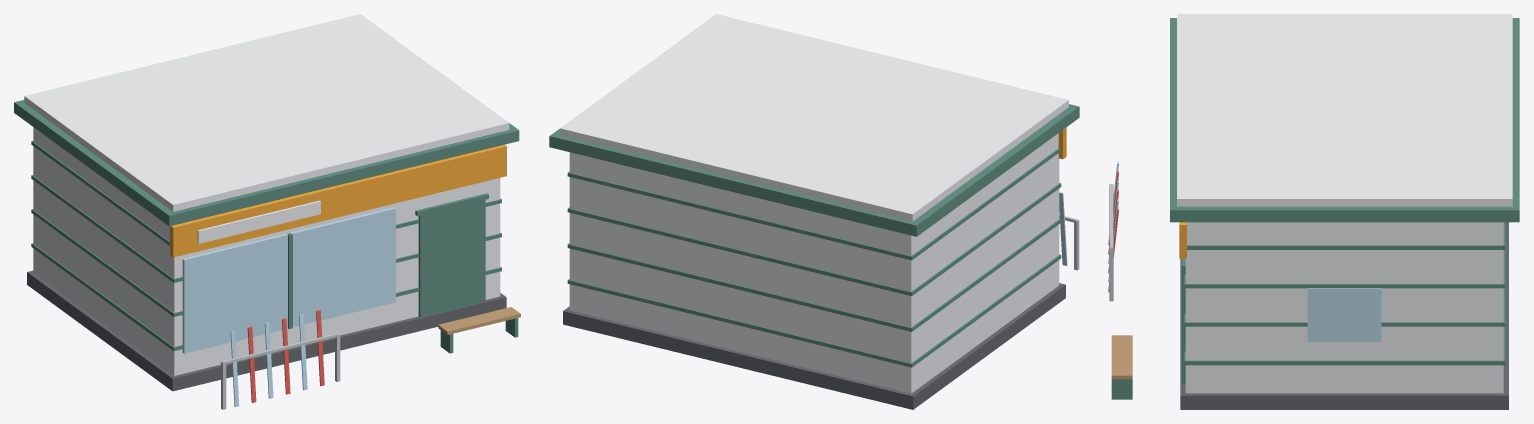
Rendered from rental.glb.
The picture shows the model from 3 angles, left to right: view 1: azimuth 30°, elevation 25°; view 2: azimuth 150°, elevation 25°; view 3: azimuth 270°, elevation 25°; orthographic projection. The views are drawn at different scales.
Parts seen in each view (by area): view 1: rental-shop-front; view 2: rental-shop-front; view 3: rental-shop-front.
Part boxes in pixels (x1=…): rental-shop-front: x1=14, y1=14, x2=520, y2=409; rental-shop-front: x1=549, y1=14, x2=1079, y2=409; rental-shop-front: x1=1108, y1=14, x2=1519, y2=409.
Bounding box in the file's own units: 8.6 × 4.41 × 7.76.
